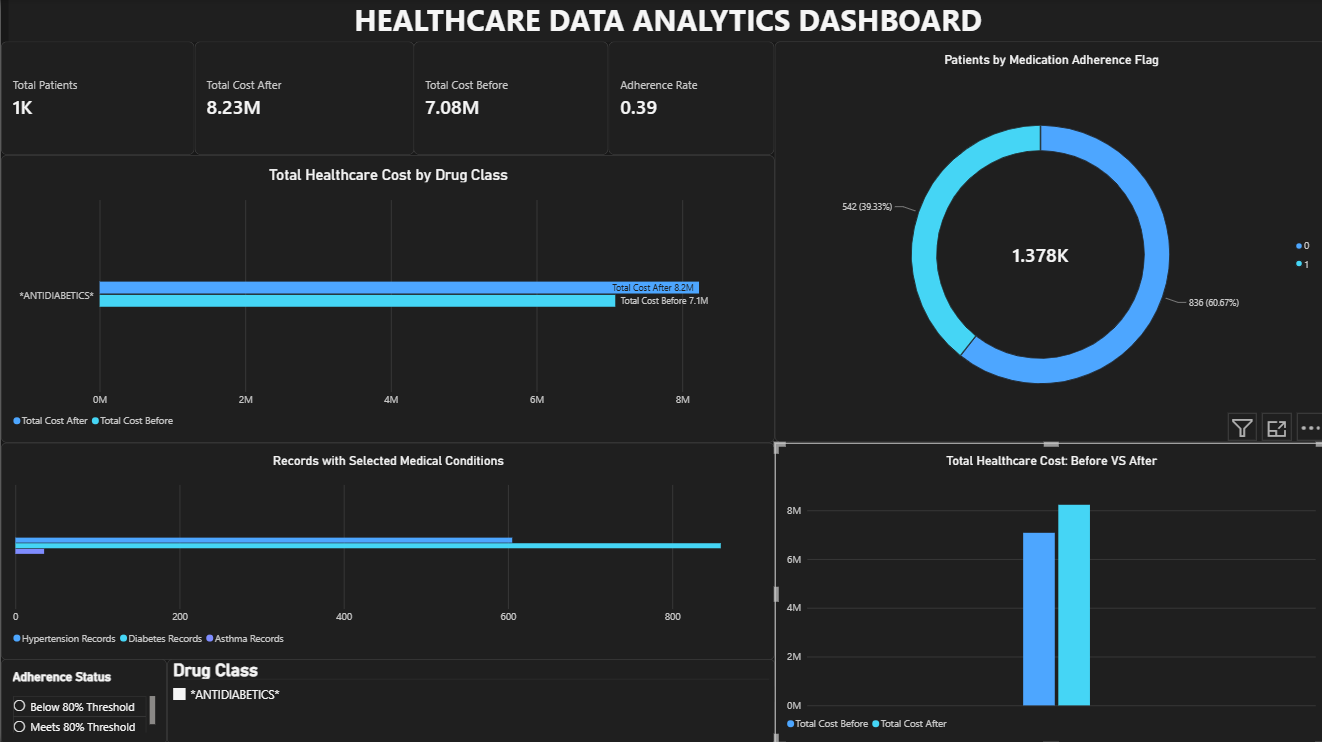

Layout of this report page (visuals, bound fields, positions):
{"tool":"powerbi","page":{"name":"Healthcare Overview","canvas":[1920,1080],"ordinal":0},"visuals":[{"type":"textbox","box":[10,0,1910,62],"z":0},{"type":"cardVisual","fields":{"Data":["healthcareTrain.Total Patients"]},"box":[0,62,280,164],"z":1},{"type":"cardVisual","fields":{"Data":["healthcareTrain.Total Cost After"]},"box":[280,62,318,164],"z":2},{"type":"cardVisual","fields":{"Data":["healthcareTrain.Total Cost Before"]},"box":[598,62,282,164],"z":3},{"type":"cardVisual","fields":{"Data":["healthcareTrain.Adherence Rate"]},"box":[880,62,240,164],"z":4},{"type":"clusteredColumnChart","title":"Total Healthcare Cost:  Before VS  After","fields":{"Y":["healthcareTrain.Total Cost Before","healthcareTrain.Total Cost After"]},"box":[1120,642,800,438],"z":5},{"type":"clusteredBarChart","title":"Total Healthcare Cost by Drug Class","fields":{"Category":["healthcareTrain.drug_class"],"Y":["healthcareTrain.Total Cost After","healthcareTrain.Total Cost Before"]},"box":[0,226,1120,416],"z":6},{"type":"donutChart","title":"Patients by Medication Adherence Flag","fields":{"Category":["healthcareTrain.pdc_80_flag"],"Y":["Count(healthcareTrain.patient_key)"]},"box":[1120,62,800,580],"z":7},{"type":"clusteredBarChart","title":" Records with Selected Medical Conditions","fields":{"Y":["healthcareTrain.Hypertension Records","healthcareTrain.Diabetes Records","healthcareTrain.Asthma Records"]},"box":[0,642,1120,314],"z":8},{"type":"slicer","fields":{"Values":["healthcareTrain.drug_class"]},"box":[240,956,880,124],"z":9},{"type":"listSlicer","fields":{"Values":["healthcareTrain.Adherence Status"]},"box":[0,956,240,124],"z":10}]}

Visuals, with their boxes in screenshot pixels (x1, y1, x2, y2), scaled from the page's 1920x1080 canvas onto the 1322x742 screenshot:
textbox: rect(7, 0, 1321, 43)
cardVisual - healthcareTrain.Total Patients: rect(0, 43, 193, 155)
cardVisual - healthcareTrain.Total Cost After: rect(193, 43, 412, 155)
cardVisual - healthcareTrain.Total Cost Before: rect(412, 43, 606, 155)
cardVisual - healthcareTrain.Adherence Rate: rect(606, 43, 771, 155)
"Total Healthcare Cost:  Before VS  After" clusteredColumnChart: rect(771, 441, 1321, 741)
"Total Healthcare Cost by Drug Class" clusteredBarChart: rect(0, 155, 771, 441)
"Patients by Medication Adherence Flag" donutChart: rect(771, 43, 1321, 441)
" Records with Selected Medical Conditions" clusteredBarChart: rect(0, 441, 771, 657)
slicer - healthcareTrain.drug_class: rect(165, 657, 771, 741)
listSlicer - healthcareTrain.Adherence Status: rect(0, 657, 165, 741)
